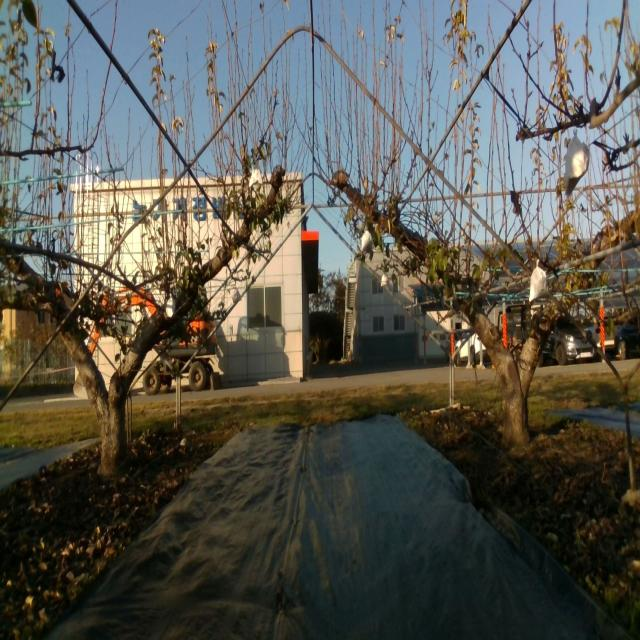pearbags: (564, 136, 590, 197), (530, 263, 550, 305), (249, 162, 263, 187), (166, 297, 176, 316)
